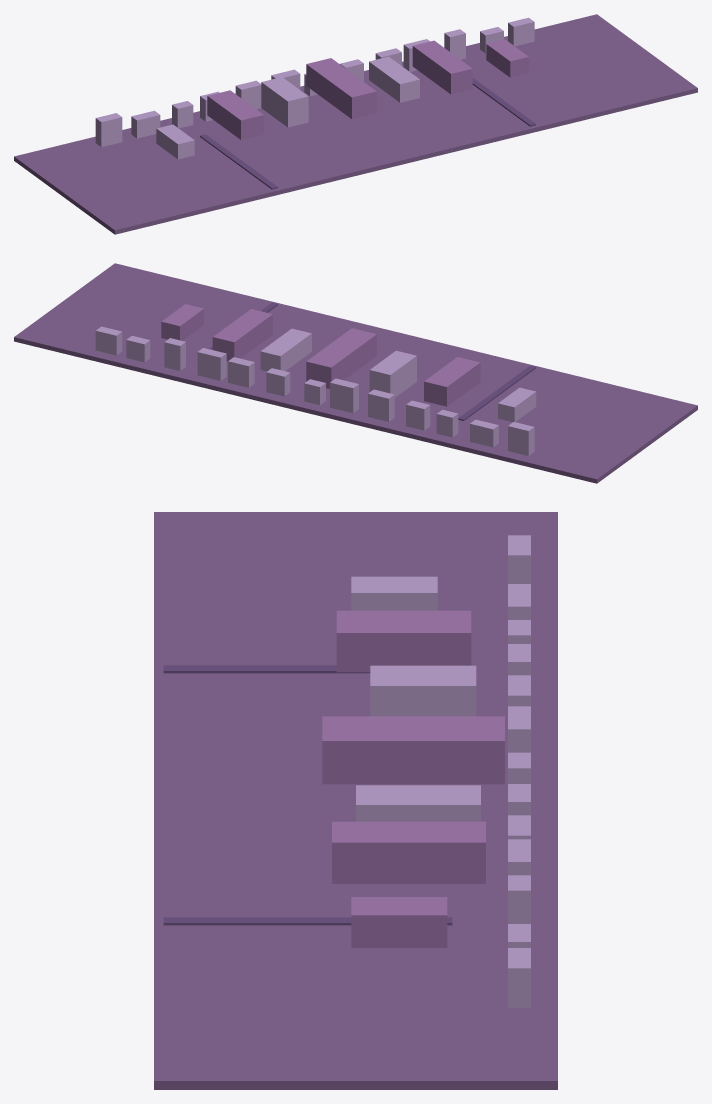
Rendered from environment.glb.
3 renders of one model, top to bottom at view 1: azimuth 30°, elevation 25°; view 2: azimuth 150°, elevation 25°; view 3: azimuth 270°, elevation 25°, orthographic. The views are drawn at different scales.
Parts seen in each view (by area): view 1: EnvFloor, EnvSilhouette_02, EnvSilhouette_04, EnvSilhouette_00, EnvSilhouette_01, EnvSilhouette_03, EnvSilhouette_06, EnvSilhouette_05, EnvBattlement_00, EnvBattlement_01, EnvBattlement_12, EnvEdge_L (+5 smaller); view 2: EnvFloor, EnvSilhouette_02, EnvSilhouette_04, EnvSilhouette_00, EnvSilhouette_01, EnvSilhouette_03, EnvSilhouette_06, EnvSilhouette_05, EnvBattlement_05, EnvBattlement_09, EnvBattlement_00, EnvBattlement_04 (+10 smaller); view 3: EnvFloor, EnvSilhouette_02, EnvSilhouette_04, EnvSilhouette_00, EnvSilhouette_01, EnvSilhouette_06, EnvSilhouette_03, EnvSilhouette_05, EnvEdge_R, EnvEdge_L, EnvBattlement_12, EnvBattlement_00 (+2 smaller).
Boxes of the visible parts, box(x1,y1,x2,y2) form: EnvFloor: box(14, 14, 697, 234); EnvSilhouette_02: box(306, 58, 376, 119); EnvSilhouette_04: box(412, 40, 472, 94); EnvSilhouette_00: box(207, 90, 263, 139); EnvSilhouette_01: box(261, 77, 308, 127); EnvSilhouette_03: box(369, 56, 419, 102); EnvSilhouette_06: box(486, 39, 528, 77); EnvSilhouette_05: box(156, 124, 194, 159); EnvBattlement_00: box(95, 113, 122, 147); EnvBattlement_01: box(131, 110, 160, 138); EnvBattlement_12: box(508, 17, 534, 46); EnvEdge_L: box(200, 134, 277, 189); EnvFloor: box(14, 263, 697, 483); EnvSilhouette_02: box(306, 328, 376, 388); EnvSilhouette_04: box(212, 309, 272, 361); EnvSilhouette_00: box(424, 357, 480, 406); EnvSilhouette_01: box(369, 350, 416, 397); EnvSilhouette_03: box(260, 328, 311, 371); EnvSilhouette_06: box(161, 304, 203, 340); EnvSilhouette_05: box(498, 387, 536, 421); EnvBattlement_05: box(330, 378, 358, 413); EnvBattlement_09: box(197, 348, 226, 380); EnvBattlement_00: box(508, 422, 534, 455); EnvBattlement_04: box(368, 389, 394, 421); EnvFloor: box(154, 512, 557, 1089); EnvSilhouette_02: box(322, 716, 504, 784); EnvSilhouette_04: box(332, 821, 485, 883); EnvSilhouette_00: box(336, 610, 471, 672); EnvSilhouette_01: box(370, 665, 476, 716); EnvSilhouette_06: box(351, 897, 447, 947); EnvSilhouette_03: box(356, 785, 480, 821); EnvSilhouette_05: box(351, 576, 437, 610); EnvEdge_R: box(163, 917, 452, 925); EnvEdge_L: box(163, 665, 370, 673); EnvBattlement_12: box(508, 948, 530, 1007); EnvBattlement_00: box(508, 535, 530, 583).
Size of the model in its own units: 2800 by 192 by 840.
